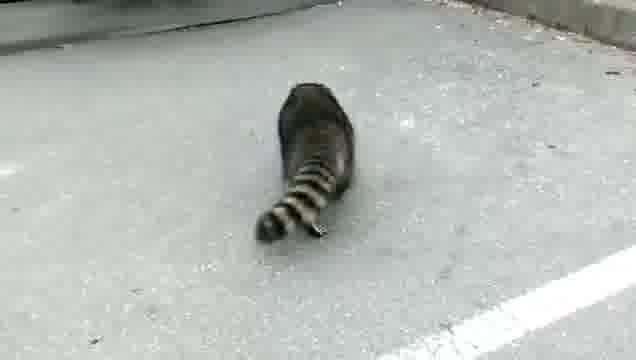raccoon: (255, 82, 357, 246)
